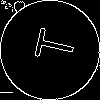T: (25, 25, 77, 65)
